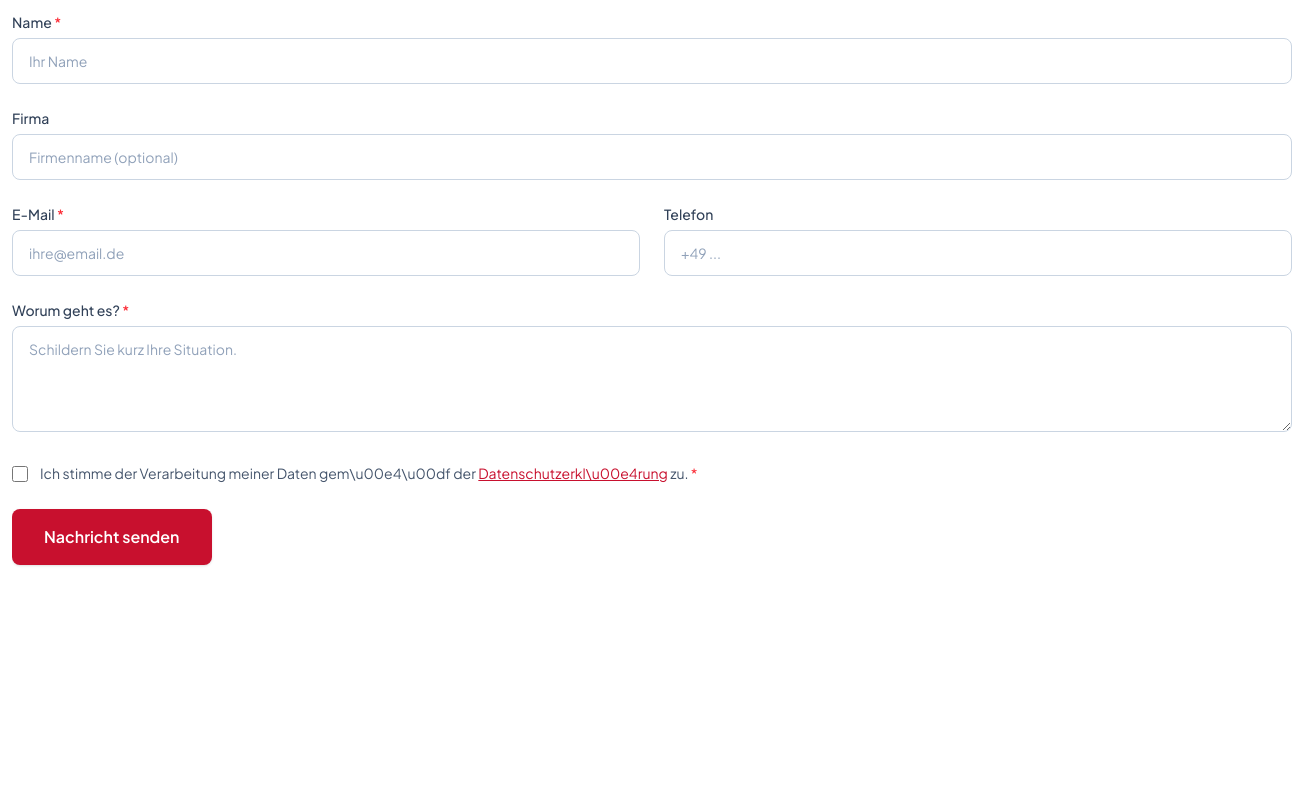
Test: ContactForm › loading state during submission › shows loading text while submitting
Type "Max Mustermann" into the field labelled "Name *". click: (652, 61)
box: [12,38,1292,84]
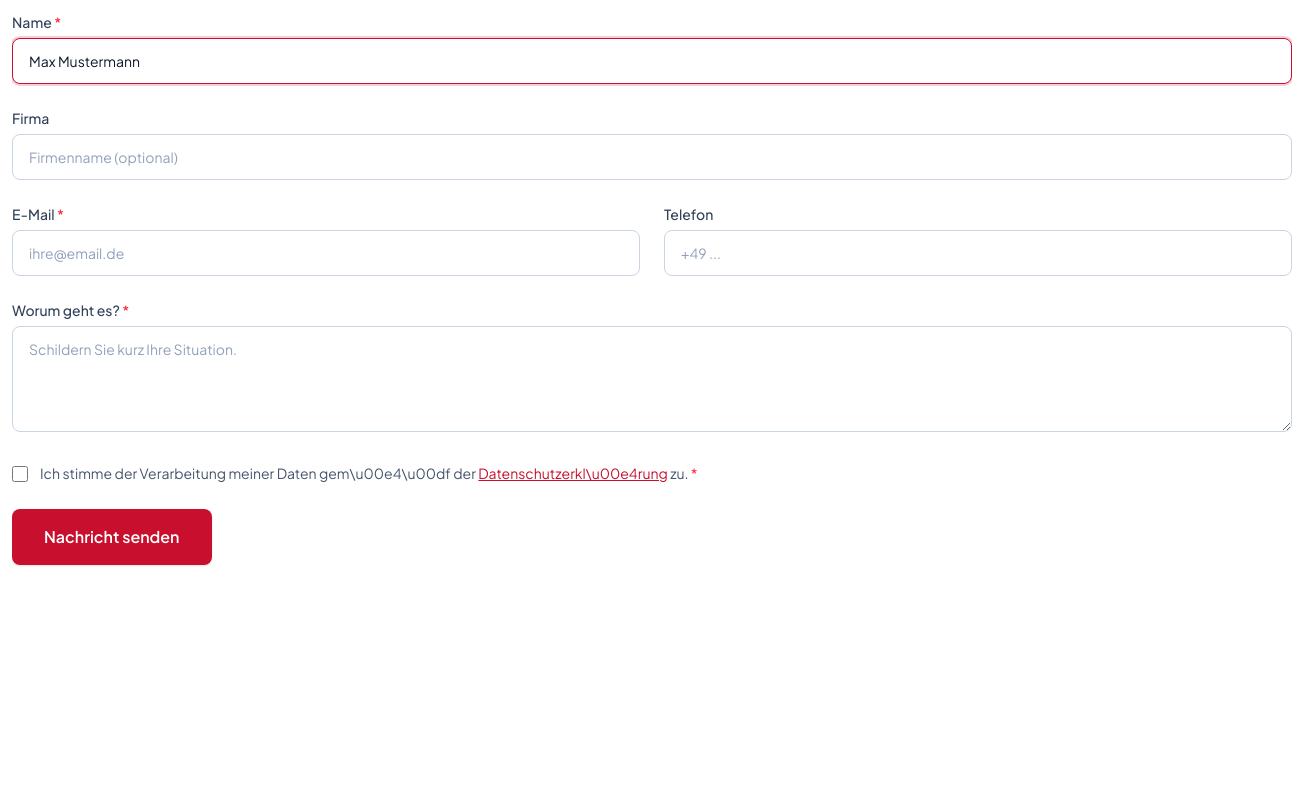
Type "max@beispiel.de" into the field labelled "E-Mail *". click: (326, 253)
box: [12,230,640,276]
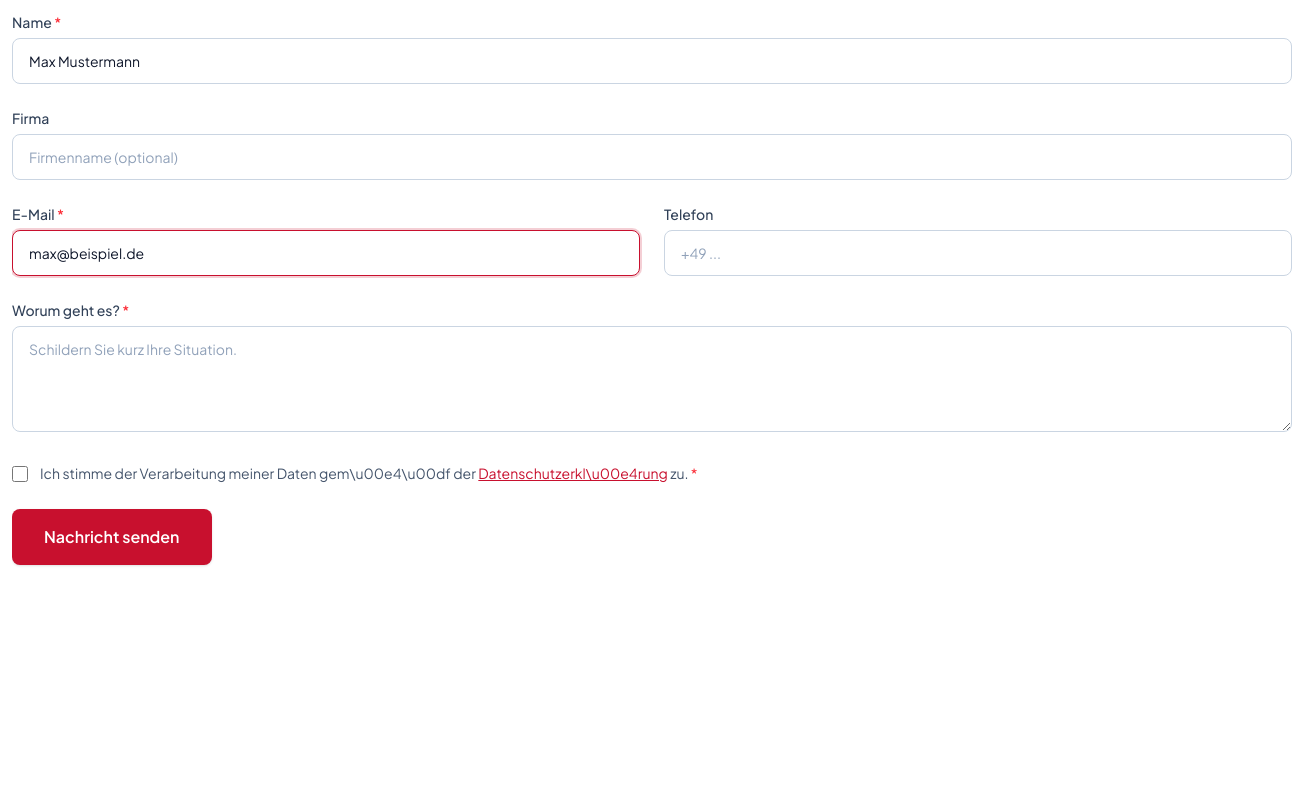
Type "Testnachricht" into the text box labelled "Worum geht es? *". click: (652, 379)
box: [12,326,1292,432]
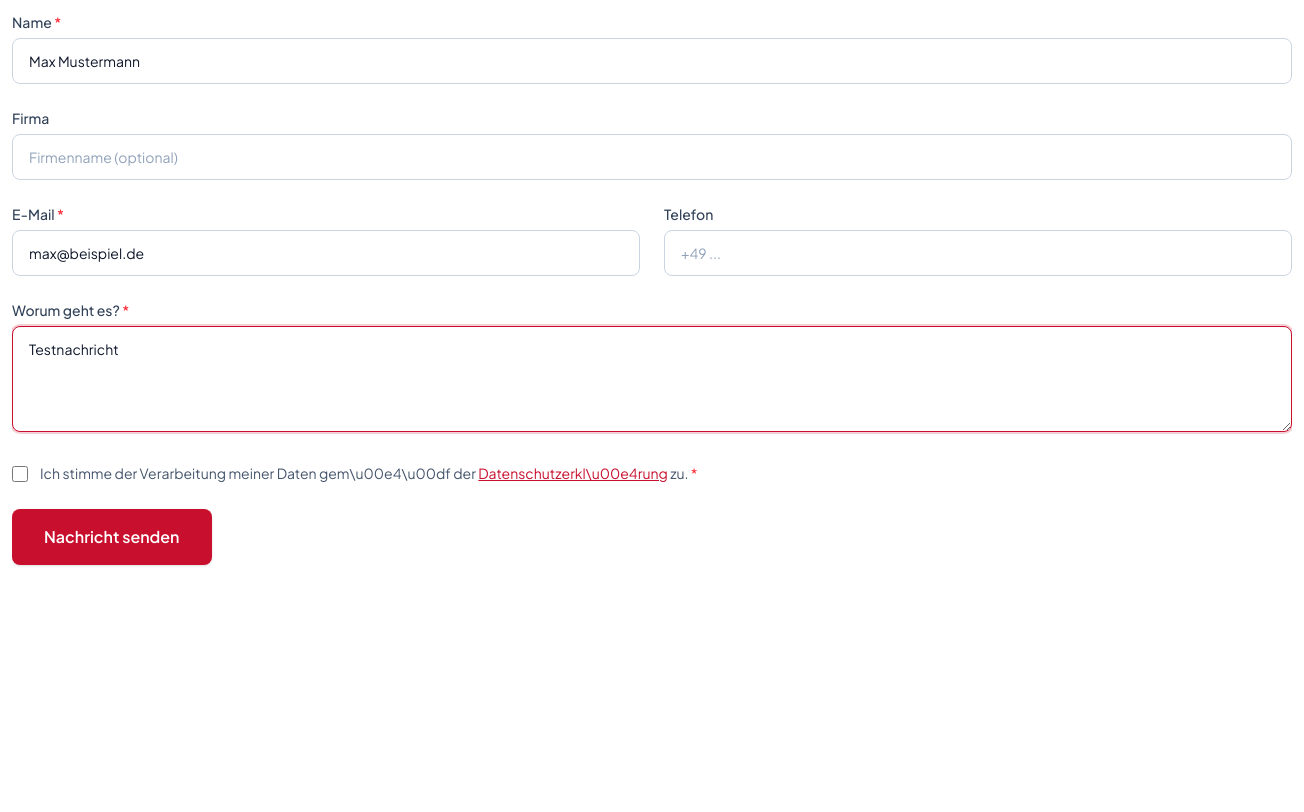
Click the checkbox. click: (20, 474)
box: [12,466,28,482]
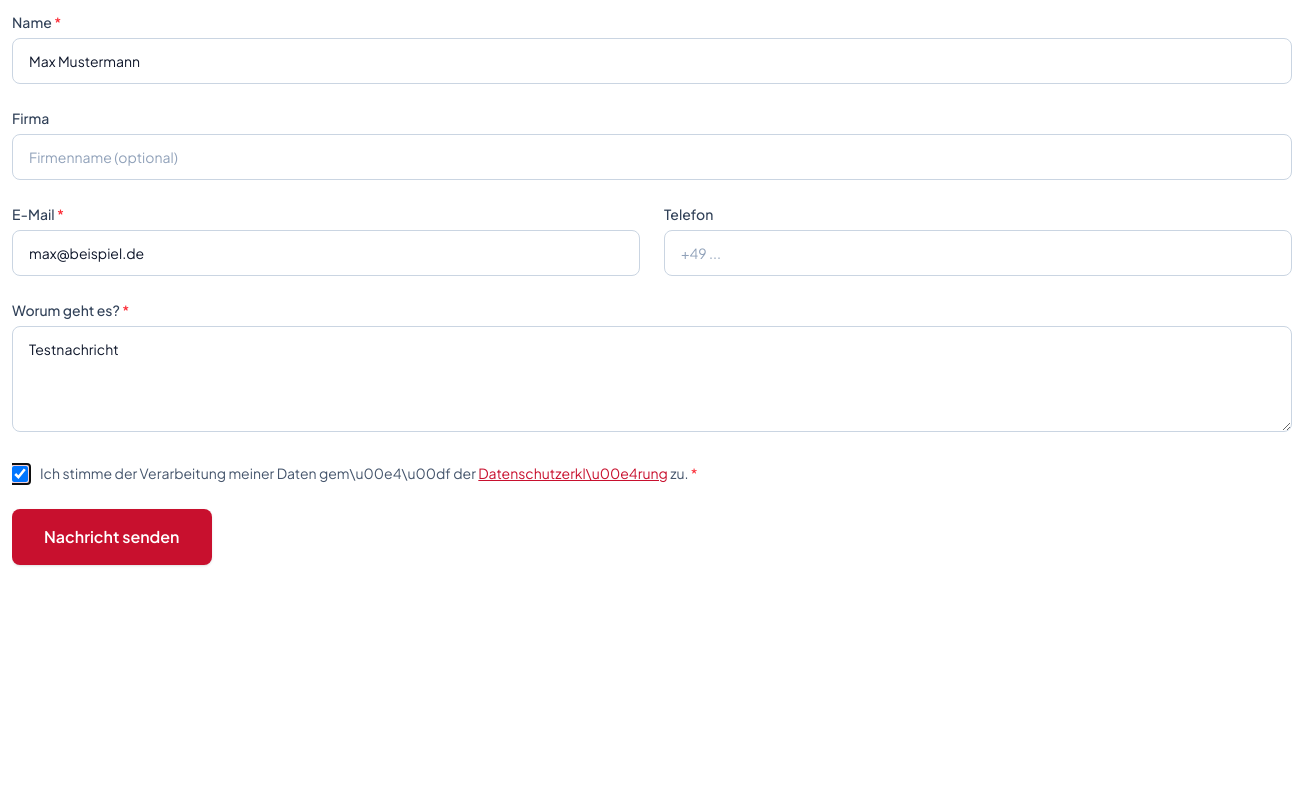
Click the button "Nachricht senden". click: (112, 537)
box: [12,509,212,565]
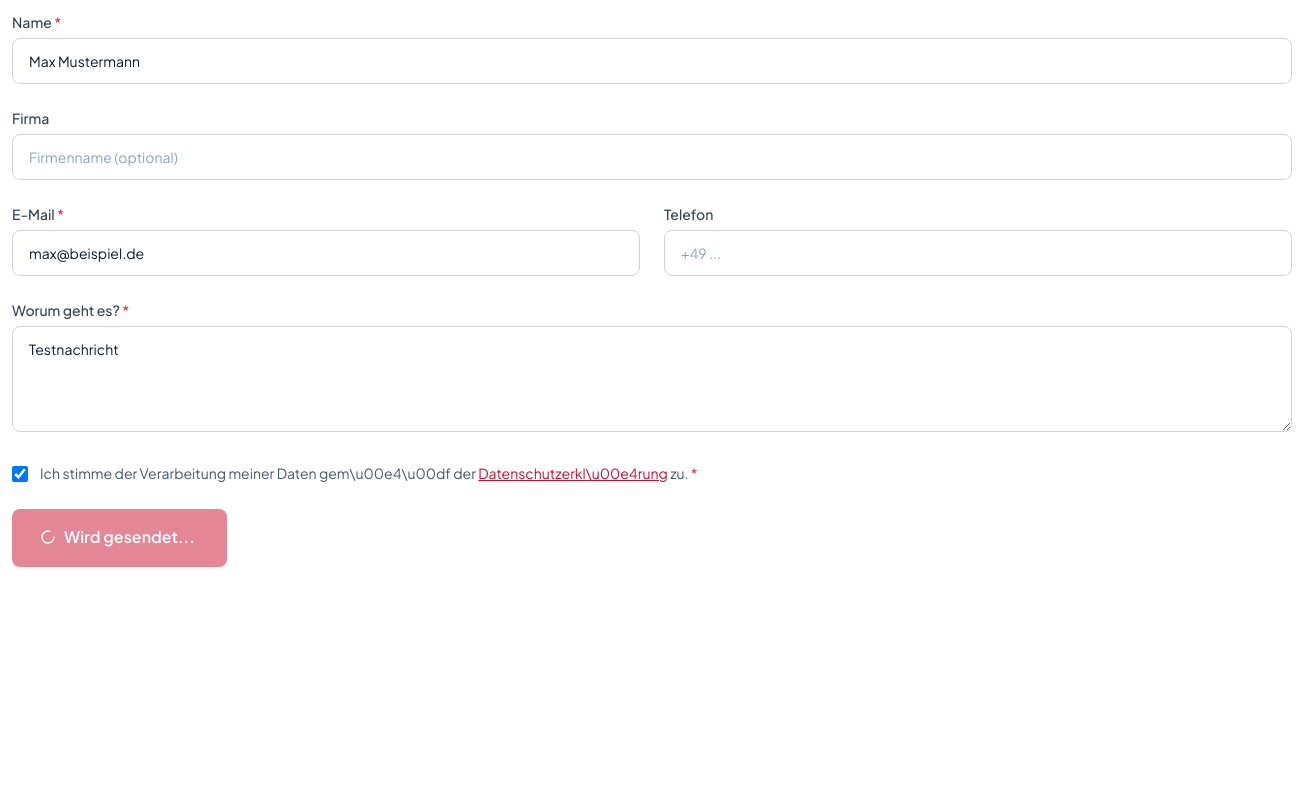
Now the text "Wird gesendet..." is shown, box [44,525,195,549]
